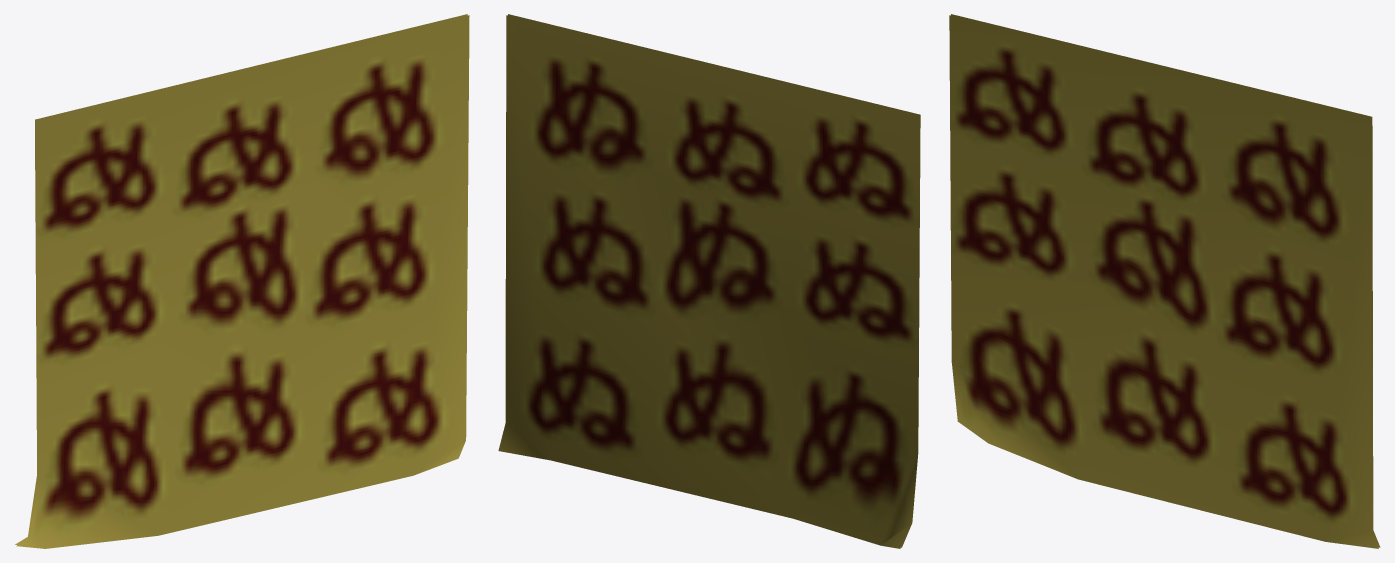
The model's file is icon1.ico.obj.
The picture shows the model from 3 angles, left to right: view 1: azimuth 30°, elevation 25°; view 2: azimuth 150°, elevation 25°; view 3: azimuth 330°, elevation 25°; orthographic projection. The views are drawn at different scales.
Size of the model in its own units: 2.5 by 2.49 by 0.2166.
Materials: 1 (1 with a texture image).
